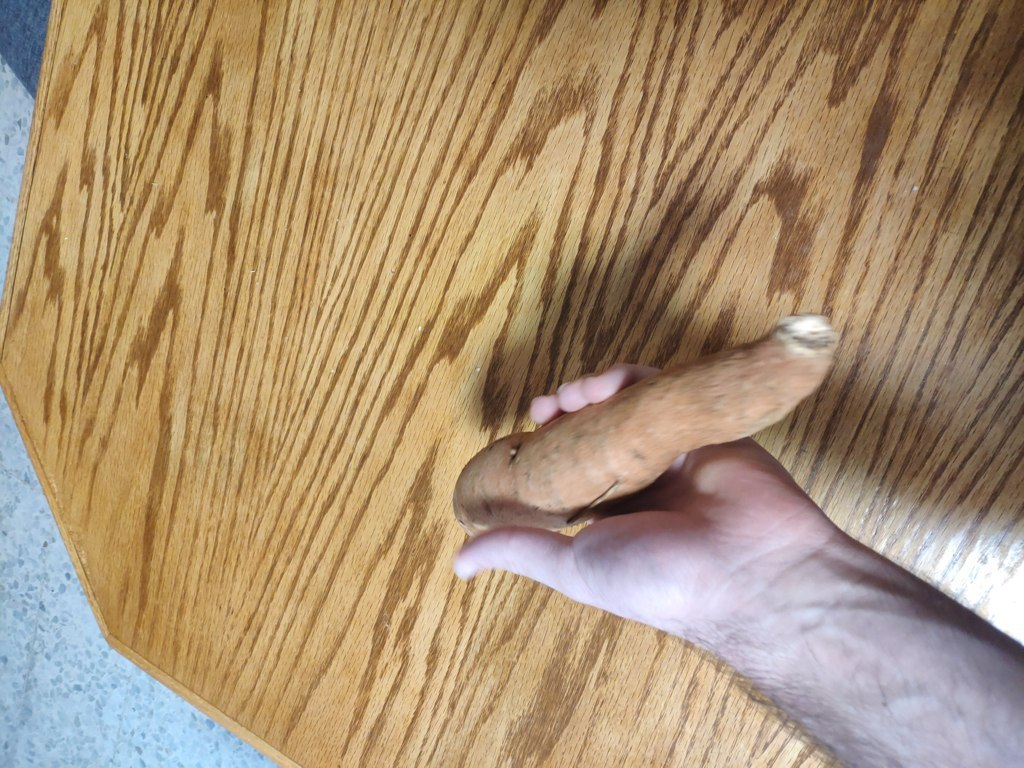Sweet Potato: (434, 318, 840, 515)
